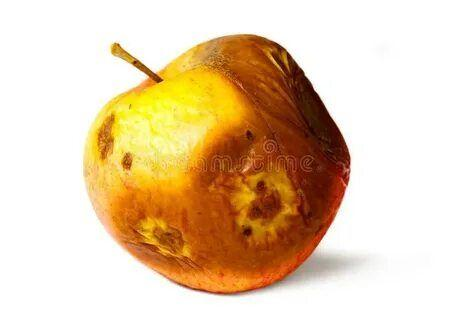Apple: (84, 34, 350, 294)
